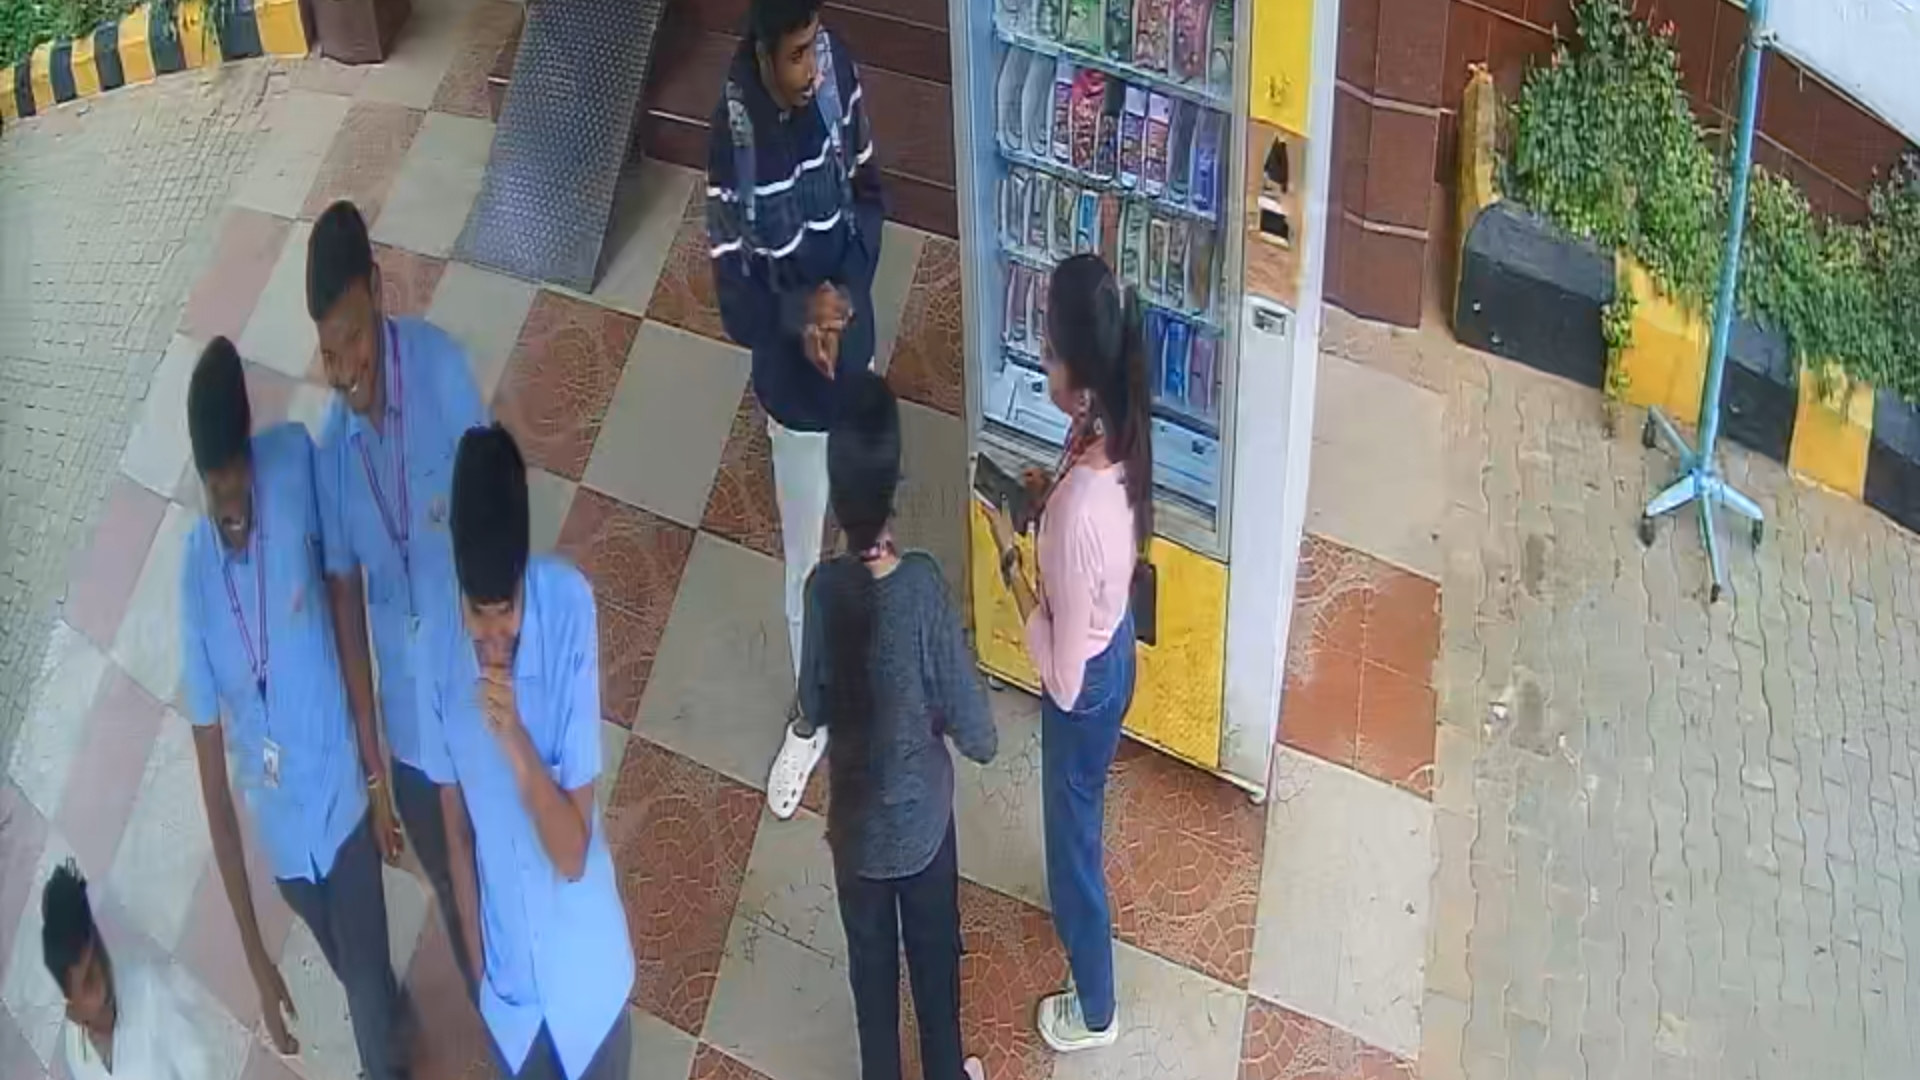intruder: (436, 443, 666, 1080)
not intruder: (167, 319, 433, 1065), (313, 183, 531, 862)
